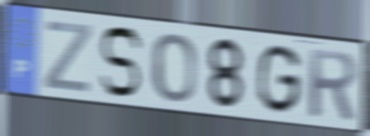8: (205, 35, 248, 113)
G: (254, 42, 304, 116)
O: (150, 31, 197, 105)
R: (306, 45, 359, 123)
S: (97, 24, 145, 100)
Z: (41, 18, 94, 95)
